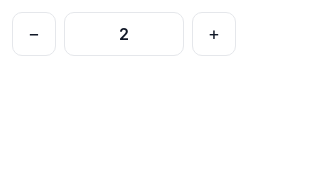
Scenario: takes digits only
This screenshot has width=332, height=172.
Replace the text in the field named "Adults" with "1e-4." at (124, 34), box [64, 12, 184, 56]
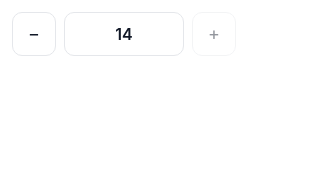
Expected: the field named "Adults" holds "14", [64, 12, 184, 56]
